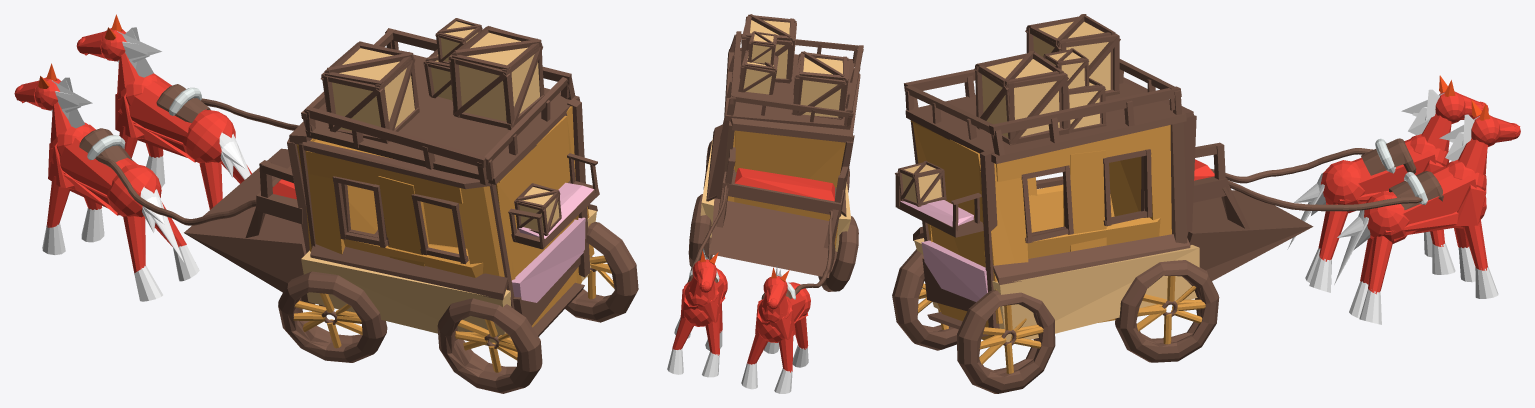
Rendered from carriage.glb.
The picture shows the model from 3 angles, left to right: view 1: azimuth 30°, elevation 25°; view 2: azimuth 150°, elevation 25°; view 3: azimuth 270°, elevation 25°; orthographic projection. The views are drawn at different scales.
Visible parts, largest first — view 1: mat20, mat19, mat8, mat18, mat21, mat6, mat25; view 2: mat20, mat8, mat19, mat18, mat21, mat14; view 3: mat20, mat19, mat8, mat18, mat21, mat6, mat25.
Part boxes in pixels (x1,y1,x2,y2): mat20: (79,18,638,393); mat19: (293,106,614,372); mat8: (14,28,296,273); mat18: (301,21,596,345); mat21: (42,27,250,301); mat6: (511,182,593,302); mat25: (87,87,201,160); mat20: (687,14,863,299); mat8: (672,168,834,372); mat19: (707,130,845,248); mat18: (700,20,850,251); mat21: (667,248,808,393); mat14: (700,251,789,281); mat20: (892,14,1443,393); mat19: (910,120,1205,373); mat8: (1194,91,1520,294); mat18: (901,21,1199,341); mat21: (1287,89,1498,324); mat6: (900,200,987,302); mat25: (1375,138,1427,204).
Bounding box in the file's own units: 1.21 × 1.04 × 1.86.
